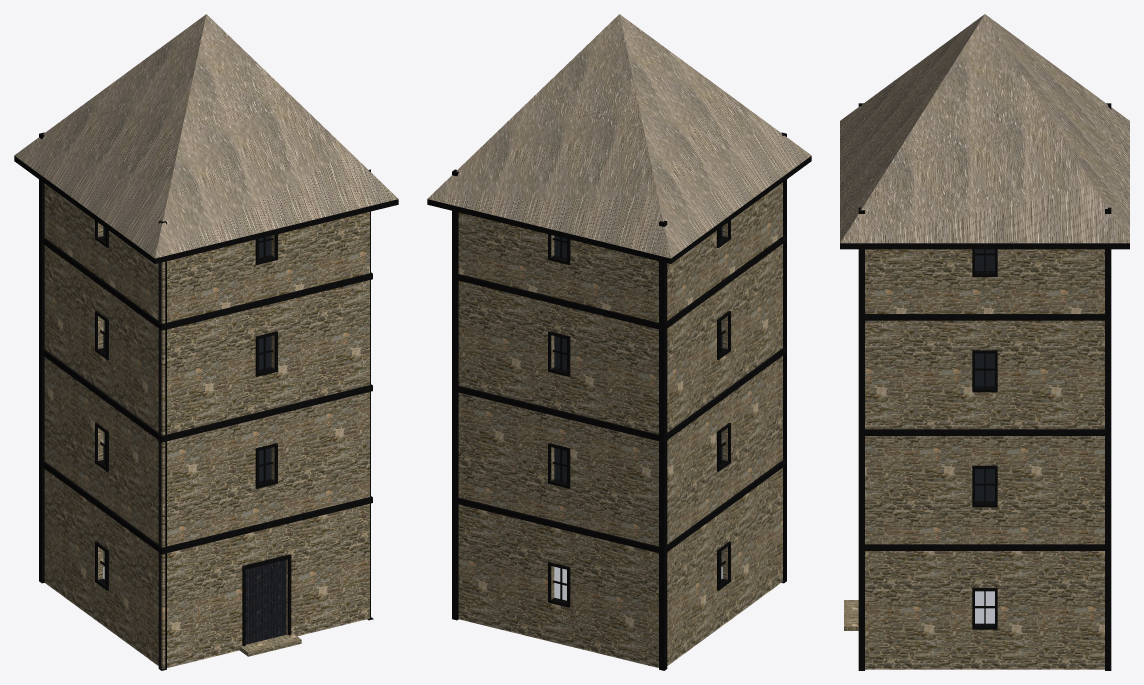
File: stone_tower_01.glb
The picture shows the model from 3 angles, left to right: view 1: azimuth 30°, elevation 25°; view 2: azimuth 150°, elevation 25°; view 3: azimuth 270°, elevation 25°; orthographic projection. The views are drawn at different scales.
Parts seen in each view (by area): view 1: stone_tower_01; view 2: stone_tower_01; view 3: stone_tower_01.
Part boxes in pixels (<box>): stone_tower_01: <box>14,14,398,670</box>; stone_tower_01: <box>427,14,811,670</box>; stone_tower_01: <box>840,14,1129,670</box>.
Size of the model in its own units: 7.3 by 16.77 by 7.3.
5 materials, 4 textured.
